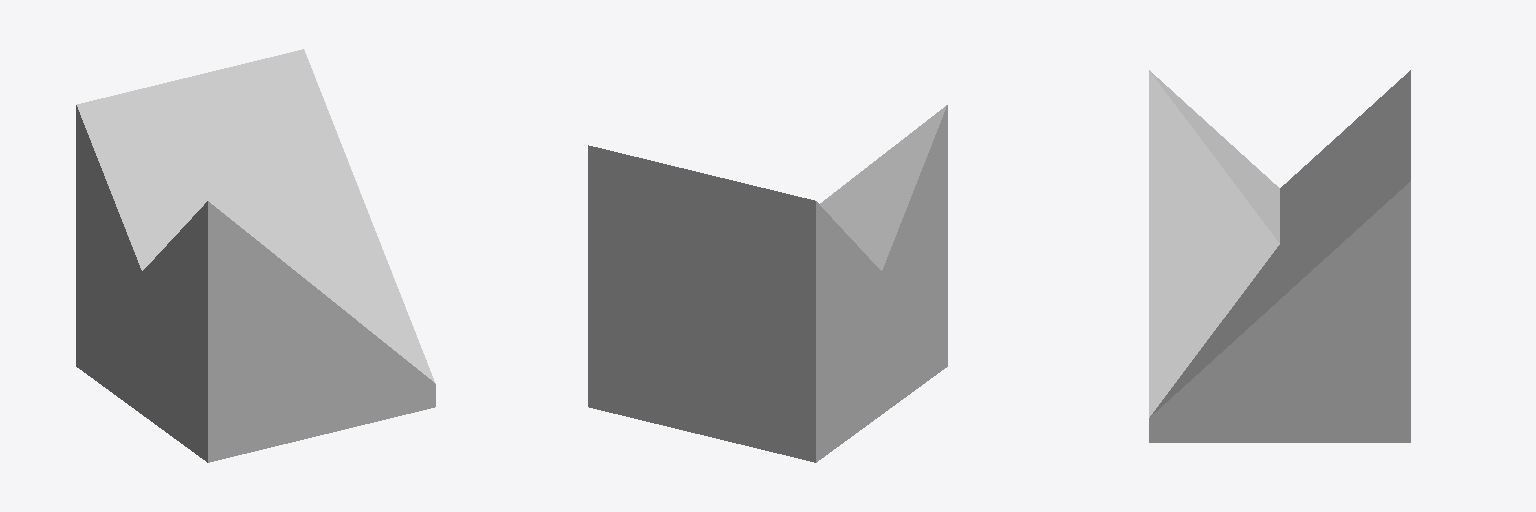
The picture shows the model from 3 angles: view 1: azimuth 30°, elevation 25°; view 2: azimuth 150°, elevation 25°; view 3: azimuth 270°, elevation 25°; orthographic projection.
Visible parts, largest first — view 1: cube1; view 2: cube1; view 3: cube1.
Boxes of the visible parts, x1=… form: cube1: x1=76, y1=49, x2=435, y2=462; cube1: x1=588, y1=105, x2=947, y2=462; cube1: x1=1149, y1=70, x2=1410, y2=442.
Bounding box in the file's own units: 1 × 1.1 × 1.